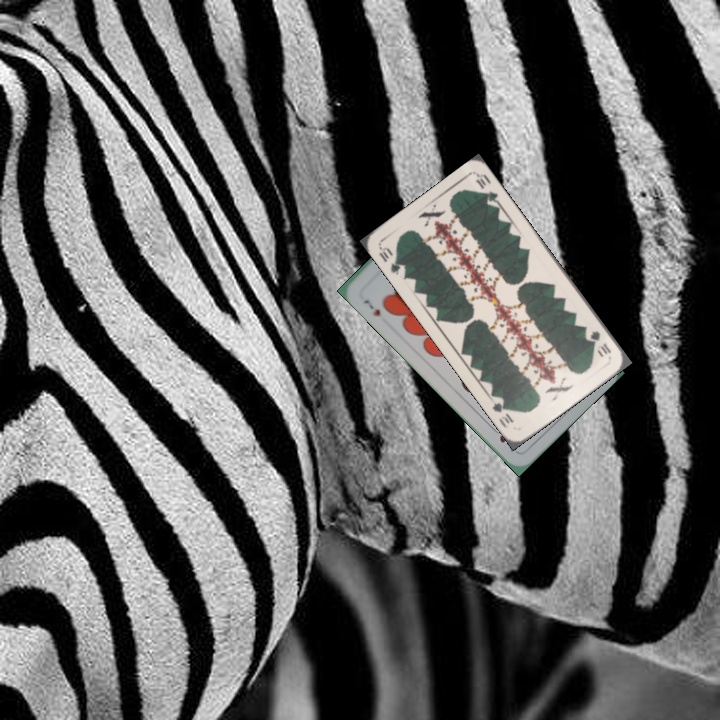G10: (375, 243, 408, 278), (586, 327, 614, 357)
H7: (360, 295, 383, 319)
